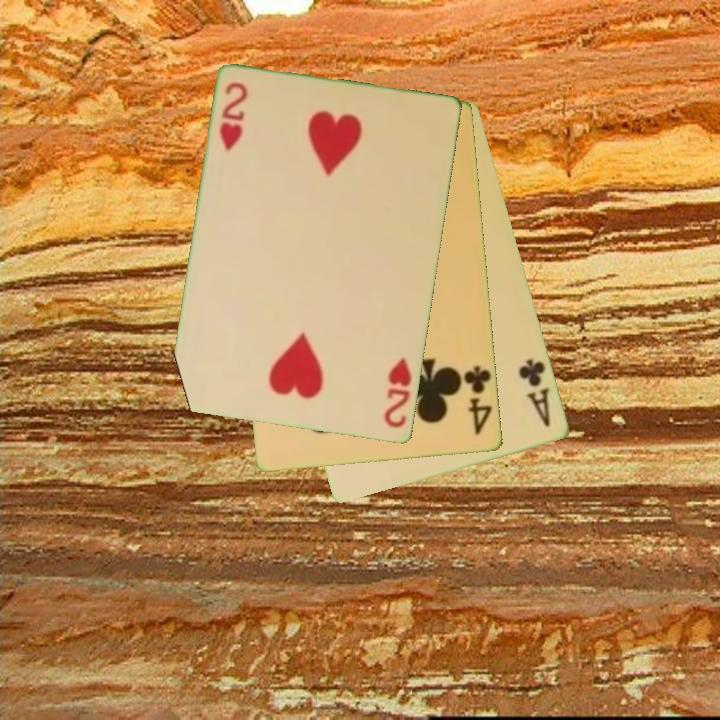2h: (216, 79, 251, 154), (381, 354, 415, 431)
4c: (460, 363, 495, 439)
Ac: (515, 355, 554, 430)
